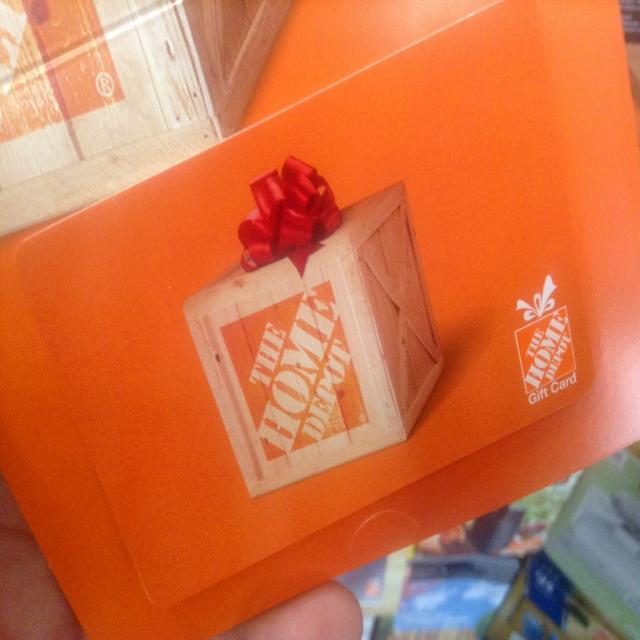Box: (194, 189, 440, 512), (2, 0, 292, 239)
